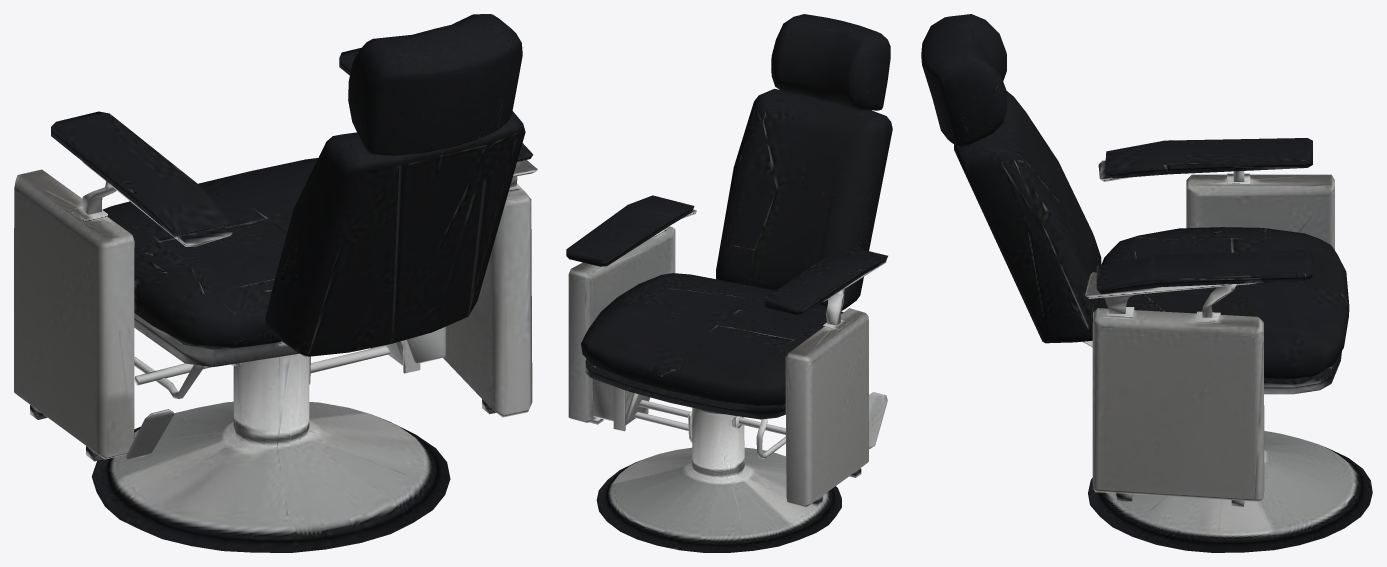
The model's file is mall-salon-styling-chair.glb.
3 views of the same model, side by side, from view 1: azimuth 30°, elevation 25°; view 2: azimuth 150°, elevation 25°; view 3: azimuth 270°, elevation 25° (orthographic). The views are drawn at different scales.
Parts seen in each view (by area): view 1: salon-styling-chair; view 2: salon-styling-chair; view 3: salon-styling-chair.
Boxes of the visible parts, box(x1,y1,x2,y2) form: salon-styling-chair: box(14, 14, 537, 552); salon-styling-chair: box(566, 14, 892, 552); salon-styling-chair: box(921, 14, 1372, 552).
Size of the model in its own units: 0.8063 by 1.1 by 0.9822.
Materials: 1 (1 with a texture image).
